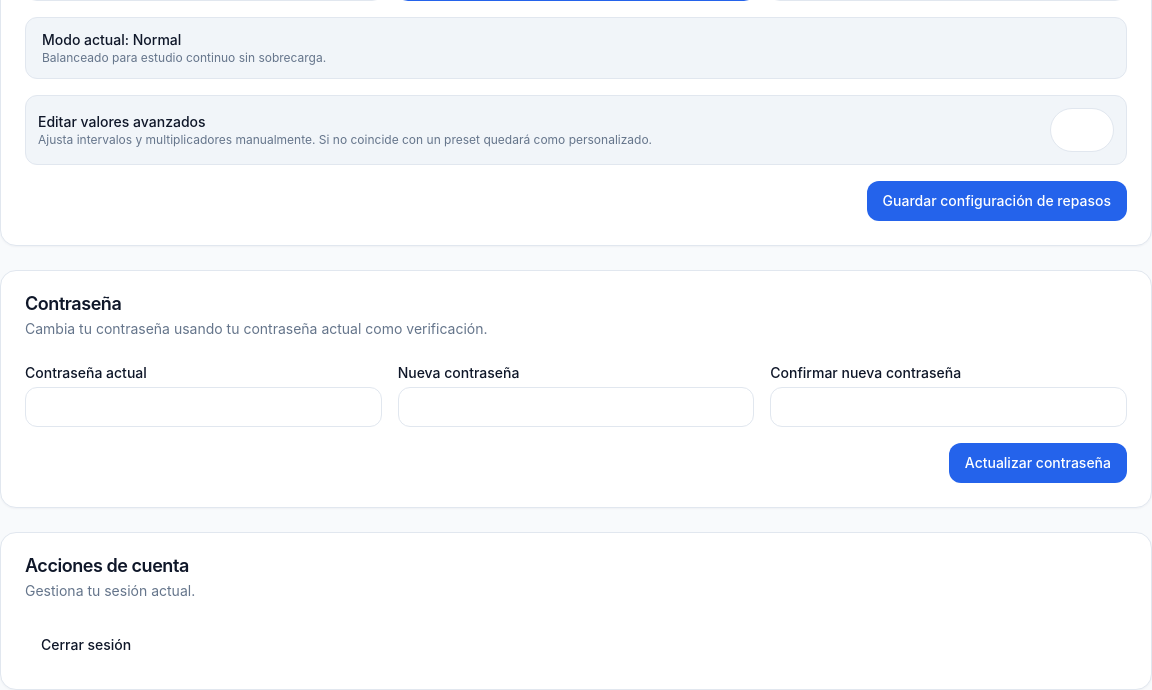
Test: AccountSettingsPage › shows backend reuse error mapped to new password field
(page scrolled)
Type "password-vigente" into the password field labelled "Contraseña actual".
click(203, 407); type("password-vigente")  # box [25,387,382,427]
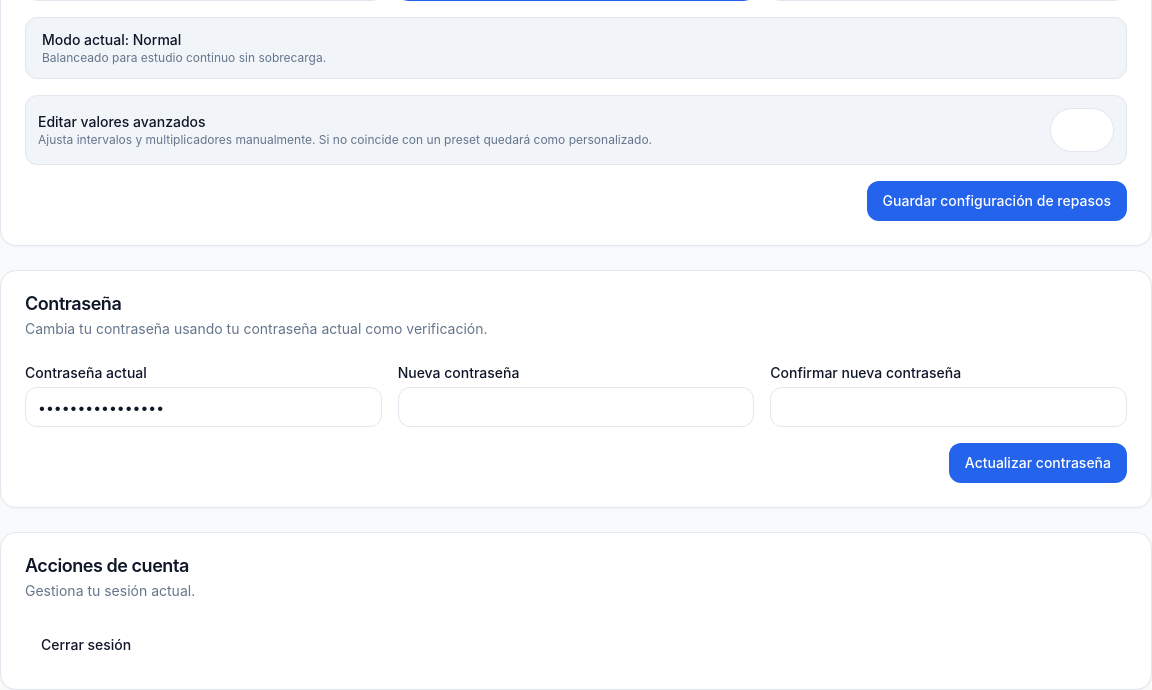
Type "password-vigente-otra-vez" into the password field labelled "Nueva contraseña".
click(576, 407); type("password-vigente-otra-vez")  # box [398,387,754,427]
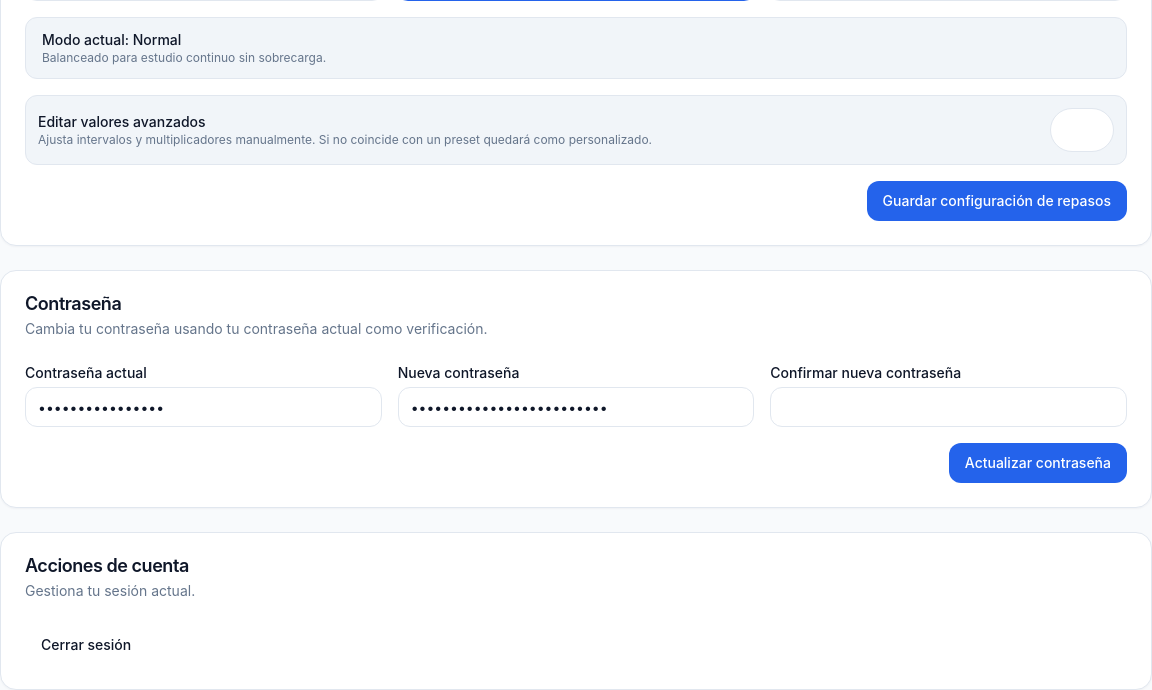
Type "password-vigente-otra-vez" into the password field labelled "Confirmar nueva contraseña".
click(949, 407); type("password-vigente-otra-vez")  # box [770,387,1127,427]
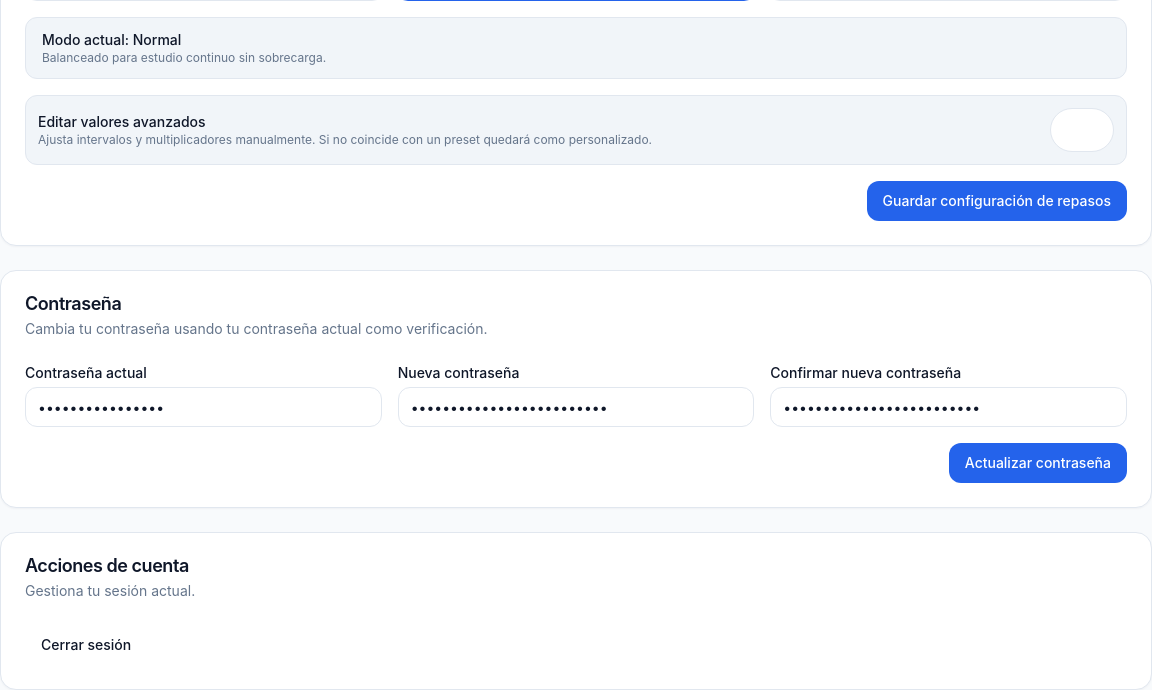
Click the button "Actualizar contraseña".
click(1038, 463)  # box [949,443,1127,483]
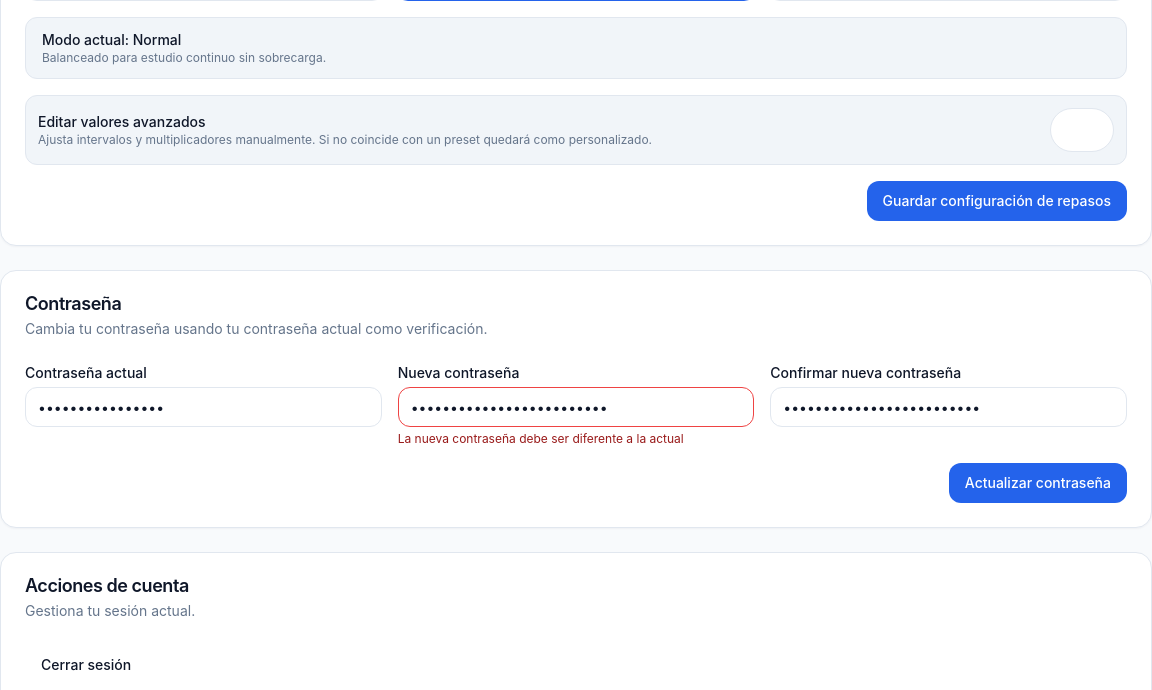
Expected: the text "La nueva contraseña debe ser diferente a la actual" is shown, [398,431,684,446]
